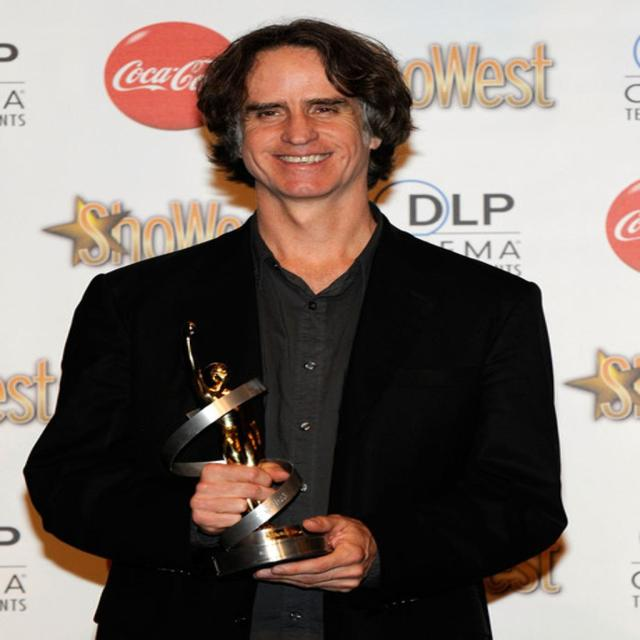Face: (244, 41, 397, 201)
